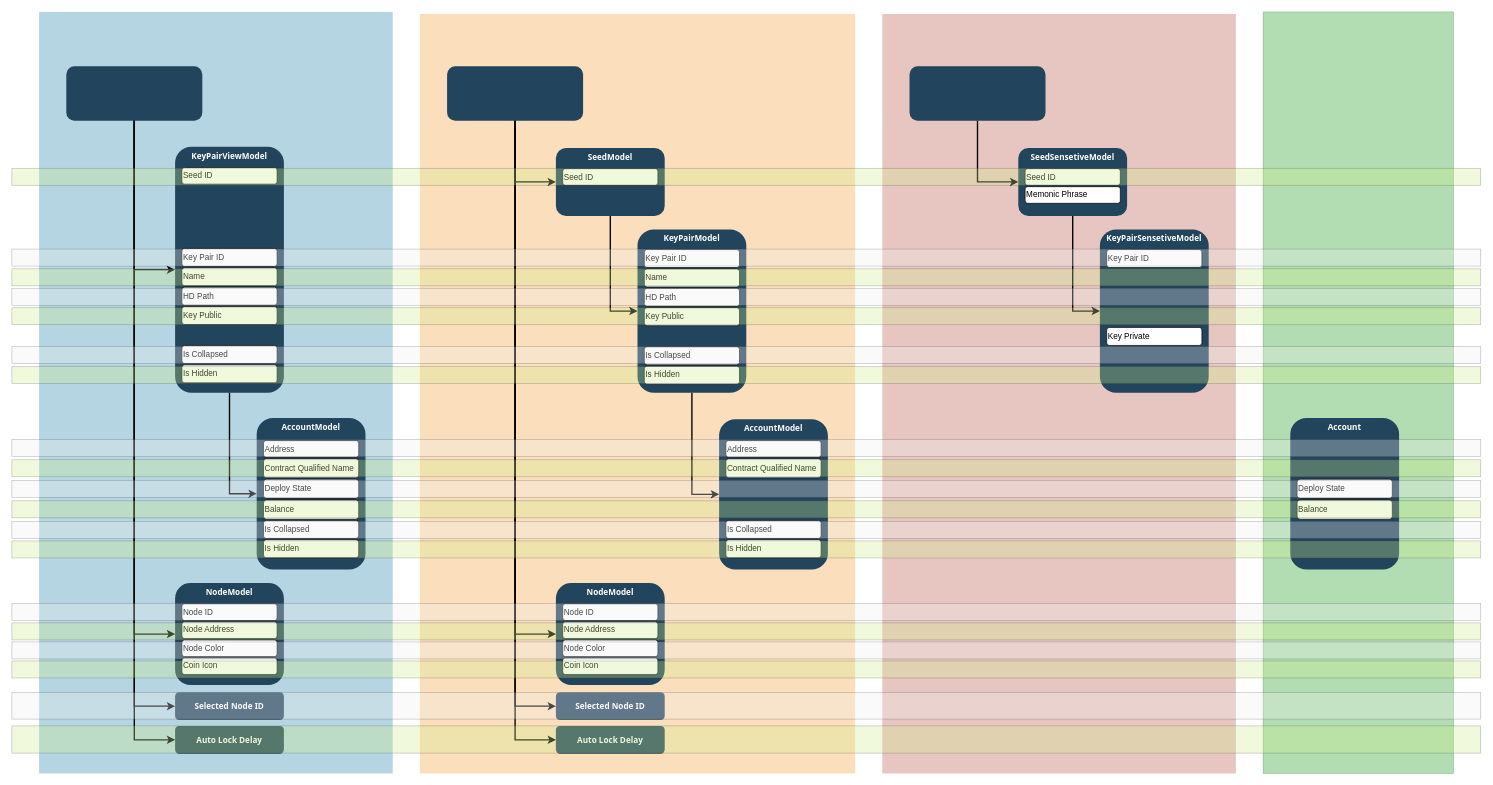
Some shapes in this 1493 by 785 pixel diagram are drawn without their labels. Each missing label, with the box of its shape:
AppModel: (447, 66, 583, 120)
AppSensetiveModel: (909, 66, 1045, 120)
AppViewModel: (66, 66, 202, 120)
Local Storage (Encrypted): (882, 14, 1236, 773)
Local Storage, ServiceWorker Runtime: (420, 14, 855, 773)
Main Runtime: (39, 12, 392, 773)
TON Node: (1262, 11, 1454, 774)
